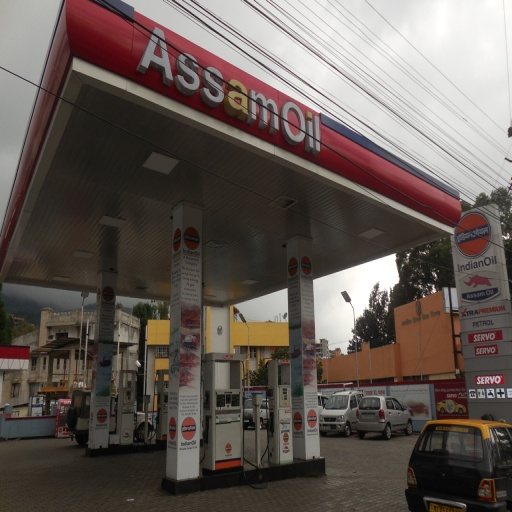roof: (1, 2, 476, 308)
